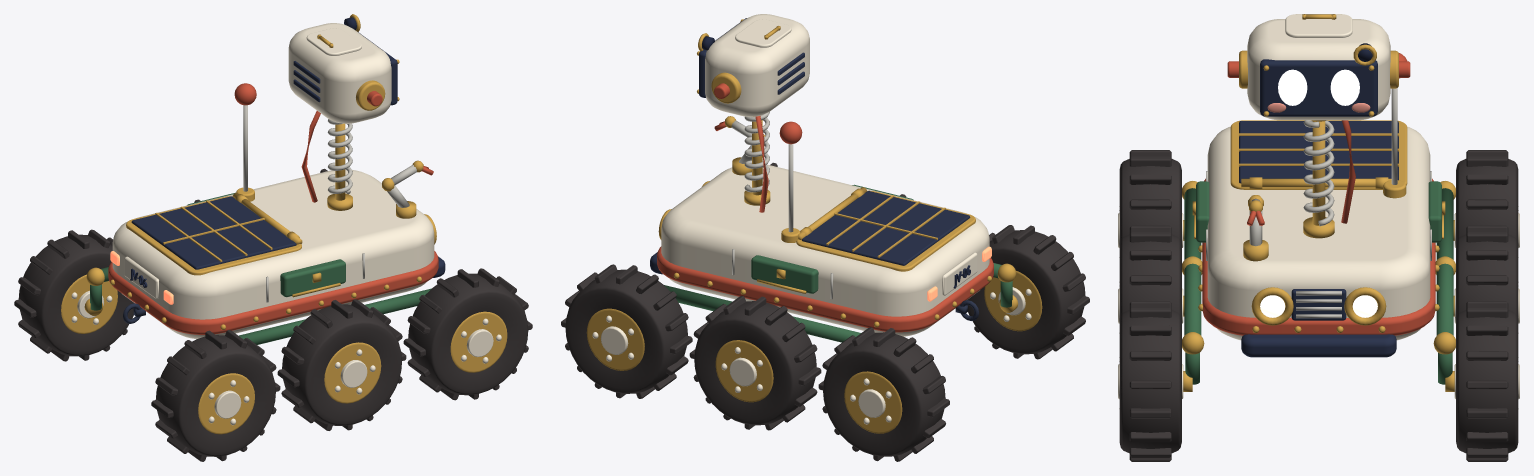
File: rover.glb
3 renders of one model, left to right at view 1: azimuth 30°, elevation 25°; view 2: azimuth 150°, elevation 25°; view 3: azimuth 270°, elevation 25°, orthographic. The views are drawn at different scales.
Parts seen in each view (by area): view 1: Body, Wheel_RR, Wheel_FR, Wheel_MR, Wheel_RL, Head, Body_Panel, Body_Band, Wheel_MR_Hub, Wheel_RR_Hub, Wheel_FR_Hub, Suspension (+14 smaller); view 2: Body, Wheel_FL, Wheel_ML, Wheel_RL, Wheel_RR, Head, Body_Panel, Body_Band, Wheel_RL_Hub, Wheel_ML_Hub, Wheel_FL_Hub, Suspension (+13 smaller); view 3: Body, Wheel_FL, Wheel_FR, Body_Panel, Head, Wheel_ML, Wheel_MR, Suspension, Wheel_RL, Wheel_RR, Head_Face, Body_Band (+20 smaller).
Boxes of the visible parts, x1,y1,x2,y2 form: Body: (112, 169, 434, 339); Wheel_RR: (151, 330, 280, 461); Wheel_FR: (403, 268, 532, 400); Wheel_MR: (277, 299, 406, 430); Wheel_RL: (14, 229, 134, 361); Head: (288, 23, 391, 123); Body_Panel: (131, 196, 296, 269); Body_Band: (108, 251, 438, 334); Wheel_MR_Hub: (324, 342, 381, 403); Wheel_RR_Hub: (198, 373, 254, 434); Wheel_FR_Hub: (450, 311, 507, 372); Suspension: (90, 267, 431, 344); Body: (661, 164, 989, 336); Wheel_FL: (561, 264, 692, 398); Wheel_ML: (689, 296, 821, 430); Wheel_RL: (818, 327, 949, 461); Wheel_RR: (967, 225, 1089, 359); Head: (705, 14, 809, 116); Body_Panel: (802, 191, 970, 265); Body_Band: (657, 246, 993, 332); Wheel_RL_Hub: (844, 371, 902, 433); Wheel_ML_Hub: (715, 340, 773, 402); Wheel_FL_Hub: (586, 308, 644, 370); Suspension: (664, 263, 1012, 342); Body: (1207, 126, 1430, 340); Wheel_FL: (1456, 301, 1518, 461); Wheel_FR: (1119, 301, 1181, 461); Body_Panel: (1239, 121, 1398, 183); Head: (1247, 19, 1390, 120); Wheel_ML: (1456, 225, 1518, 320); Wheel_MR: (1119, 225, 1181, 320); Suspension: (1184, 188, 1453, 384); Wheel_RL: (1456, 150, 1518, 244); Wheel_RR: (1119, 150, 1181, 244); Head_Face: (1260, 59, 1377, 116); Body_Band: (1202, 178, 1435, 335).
Size of the model in its own units: 2.46 by 2.07 by 1.91.
